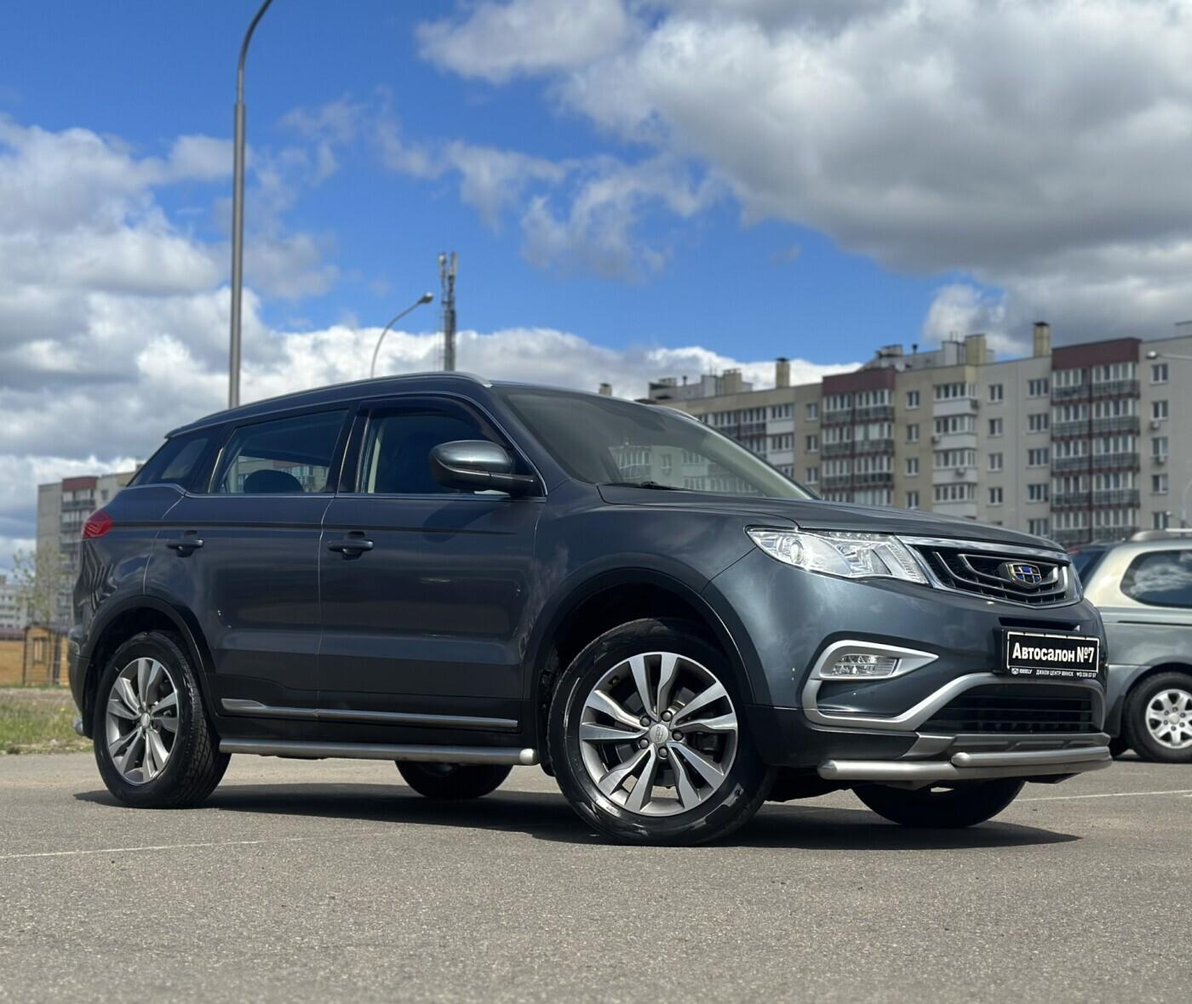Atlas_2016-2023: (62, 364, 1118, 865)
